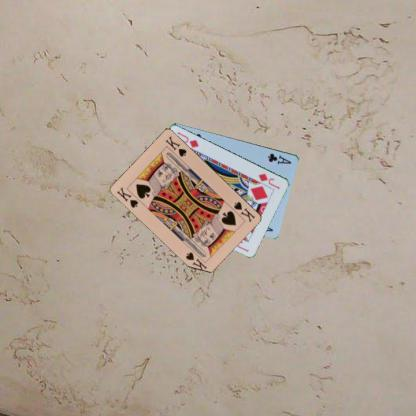Ac: (265, 151, 293, 165)
Jd: (256, 171, 281, 190)
Ks: (231, 198, 257, 223), (114, 184, 140, 209)
